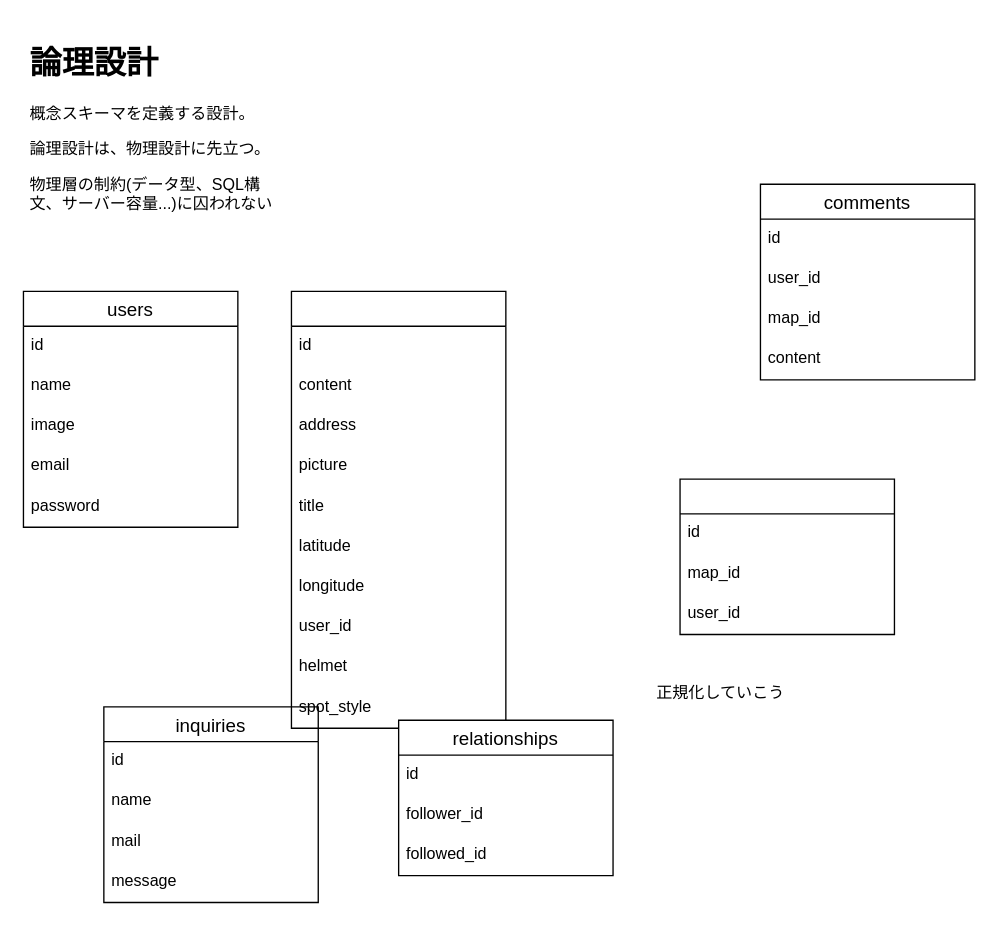
This 998x929 diagram has some shape labels left out. Each missing label, with the box of its shape:
likes: (679, 478, 894, 634)
maps: (290, 290, 506, 728)
